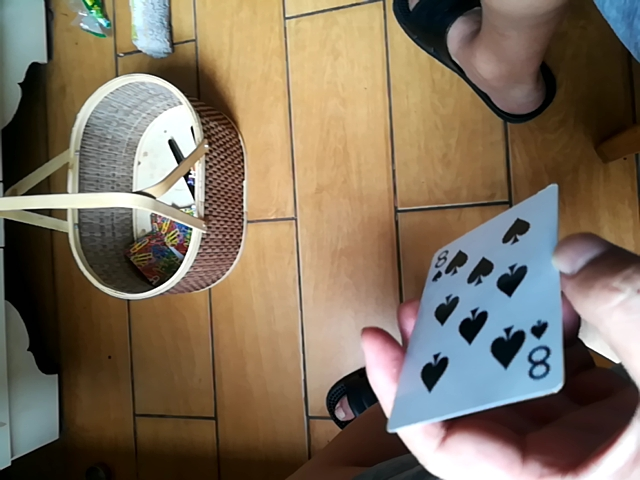ht 8: (403, 189, 569, 426)
